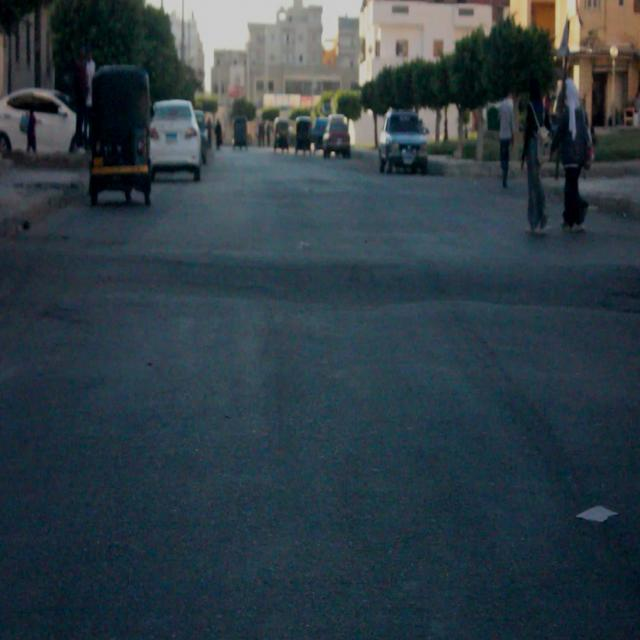NonMarked Bump: (43, 227, 635, 325)
